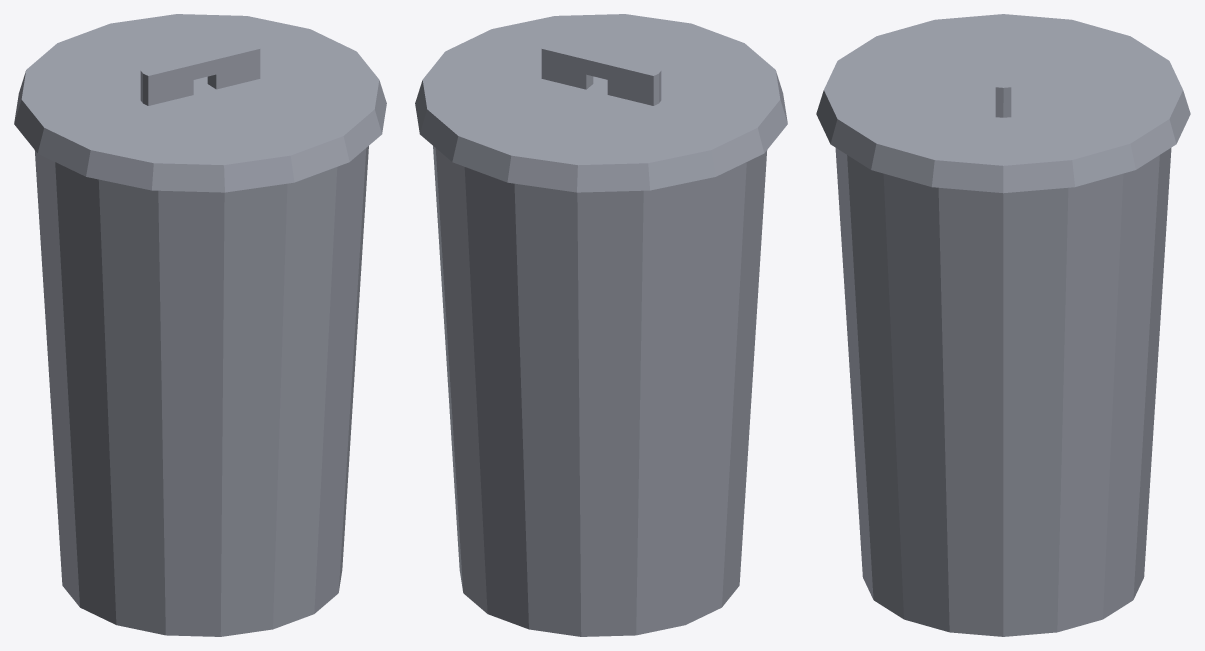
The model's file is trashcan.fbx.
The picture shows the model from 3 angles, left to right: view 1: azimuth 30°, elevation 25°; view 2: azimuth 150°, elevation 25°; view 3: azimuth 270°, elevation 25°; orthographic projection.
Visible parts, largest first — view 1: Cylinder; view 2: Cylinder; view 3: Cylinder.
Part boxes in pixels (box(x1,y1,x2,y2)): Cylinder: box(14, 14, 386, 636); Cylinder: box(415, 14, 787, 636); Cylinder: box(816, 14, 1190, 636).
Bounding box in the file's own units: 278 × 423 × 278.
